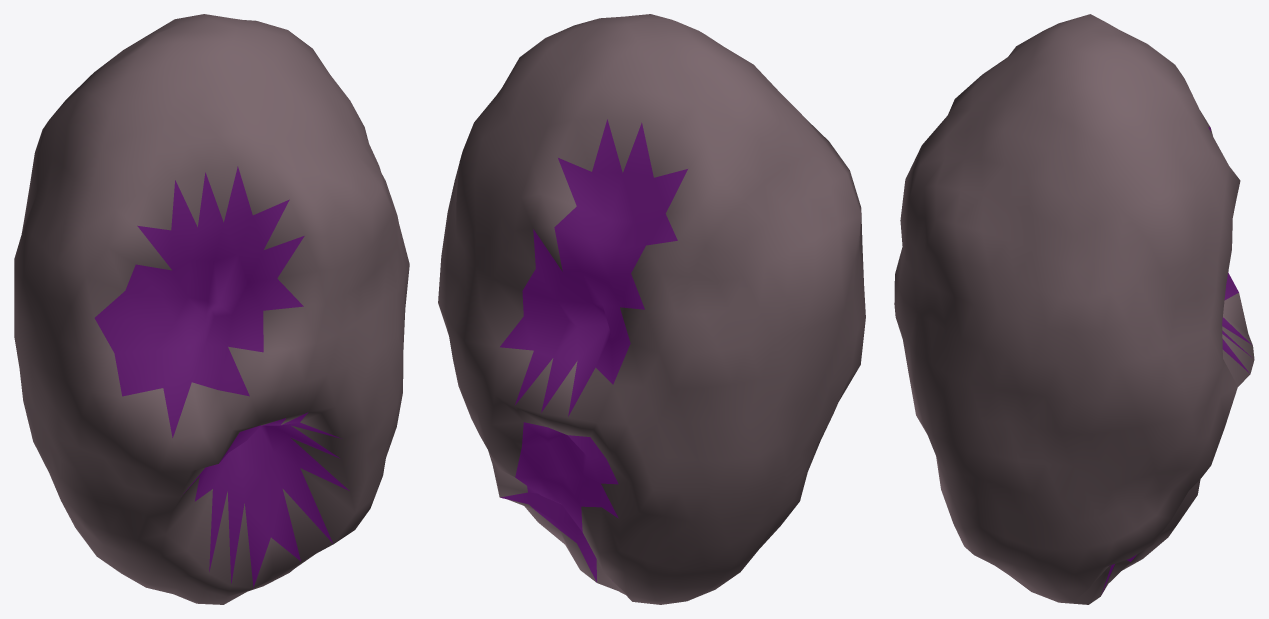
File: asteroid_med_25.glb
3 views of the same model, side by side, from view 1: azimuth 30°, elevation 25°; view 2: azimuth 150°, elevation 25°; view 3: azimuth 270°, elevation 25° (orthographic). The views are drawn at different scales.
Visible parts, largest first — view 1: asteroid_med_25; view 2: asteroid_med_25; view 3: asteroid_med_25.
Part boxes in pixels (bbox=[...]): asteroid_med_25: bbox=[14, 14, 409, 604]; asteroid_med_25: bbox=[438, 14, 865, 604]; asteroid_med_25: bbox=[894, 14, 1254, 604].
Size of the model in its own units: 1.56 by 2.27 by 1.34.
